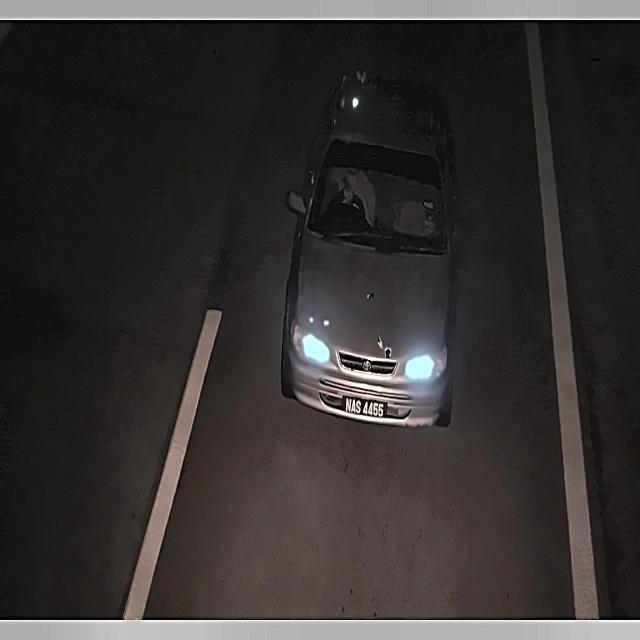car: (338, 392, 388, 425)
